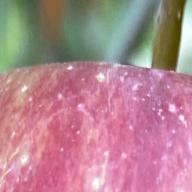Apples: (0, 64, 192, 192)
